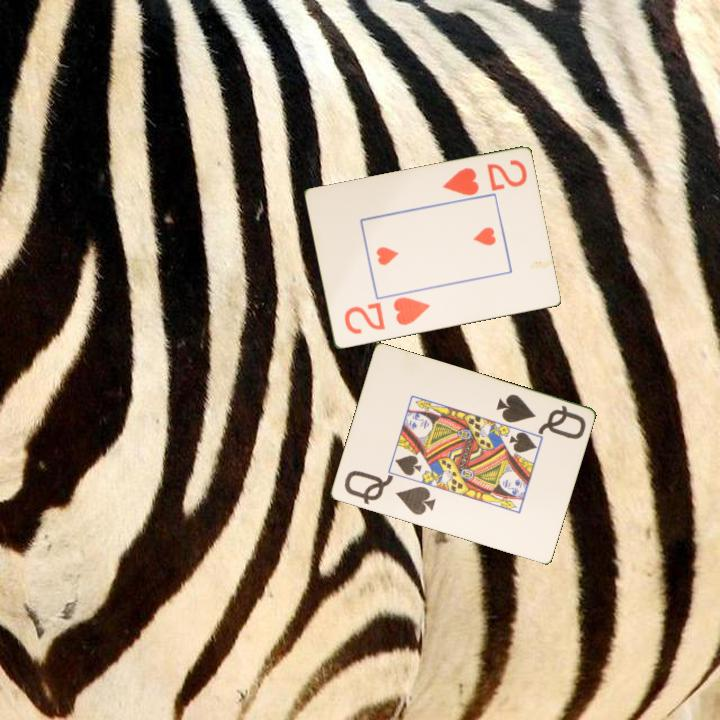2h: (340, 294, 433, 338), (439, 156, 530, 199)
Qs: (492, 391, 589, 443), (340, 467, 438, 518)
